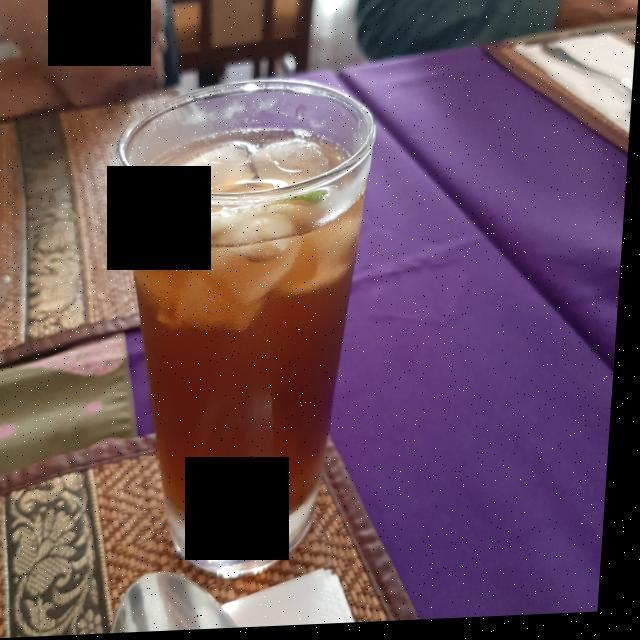ice-tea: (141, 205, 357, 532)
